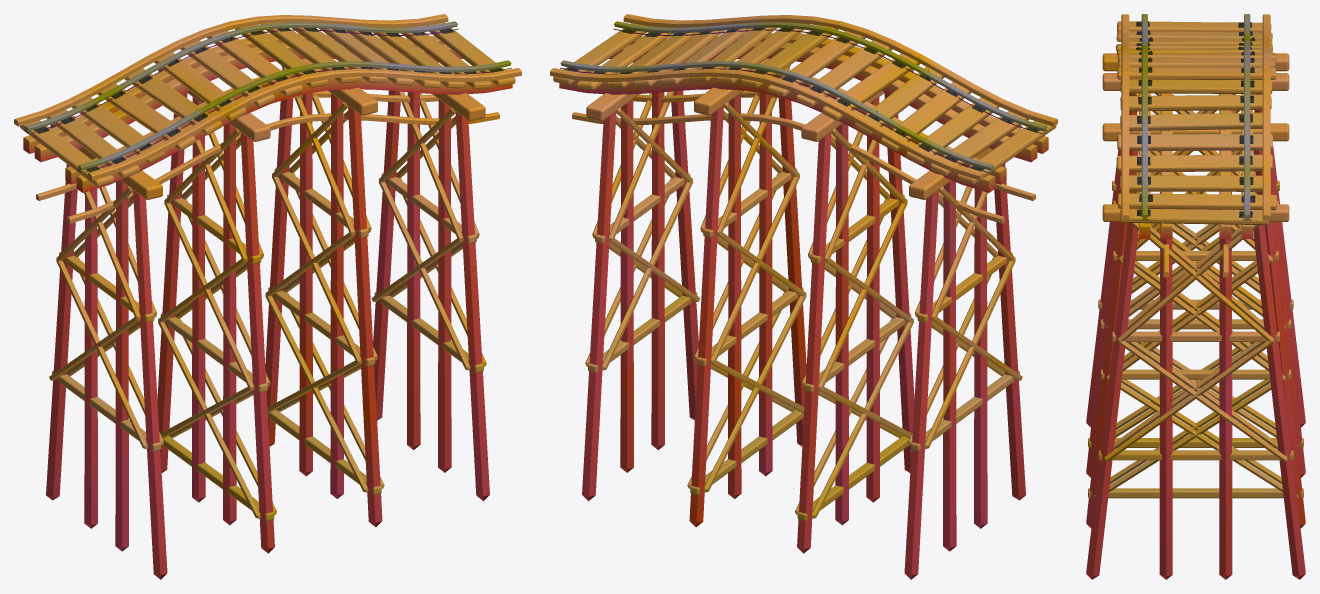
The model's file is Track_Hill_12m.glb.
3 views of the same model, side by side, from view 1: azimuth 30°, elevation 25°; view 2: azimuth 150°, elevation 25°; view 3: azimuth 270°, elevation 25° (orthographic). The views are drawn at different scales.
Parts seen in each view (by area): view 1: Track_Hill_12m; view 2: Track_Hill_12m; view 3: Track_Hill_12m.
Part boxes in pixels (x1,y1,x2,y2): Track_Hill_12m: (14, 14, 521, 579); Track_Hill_12m: (550, 14, 1057, 579); Track_Hill_12m: (1086, 14, 1305, 579).
Bounding box in the file's own units: 12 × 12.05 × 5.53.
